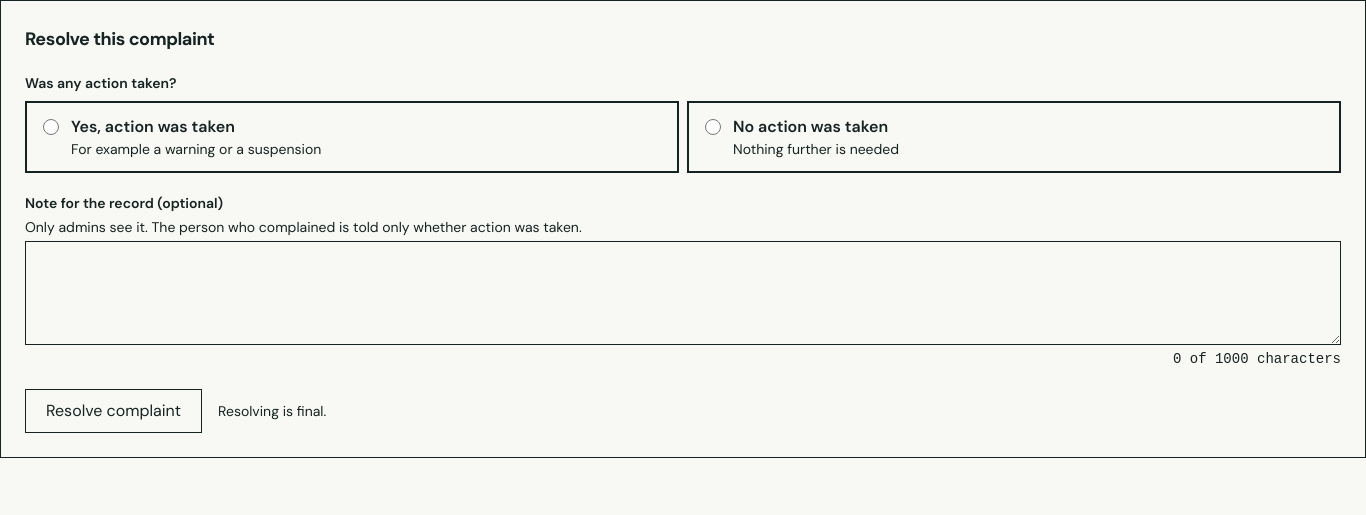
ComplaintStatusActions (OA-FR-18, CS455-53) › on a conflict says so and shows the complaint as it is now
The image size is (1366, 515).
Click the radio button labelled "Yes, action was taken For example a warning or a suspension": (51, 127) [43,119,59,135]
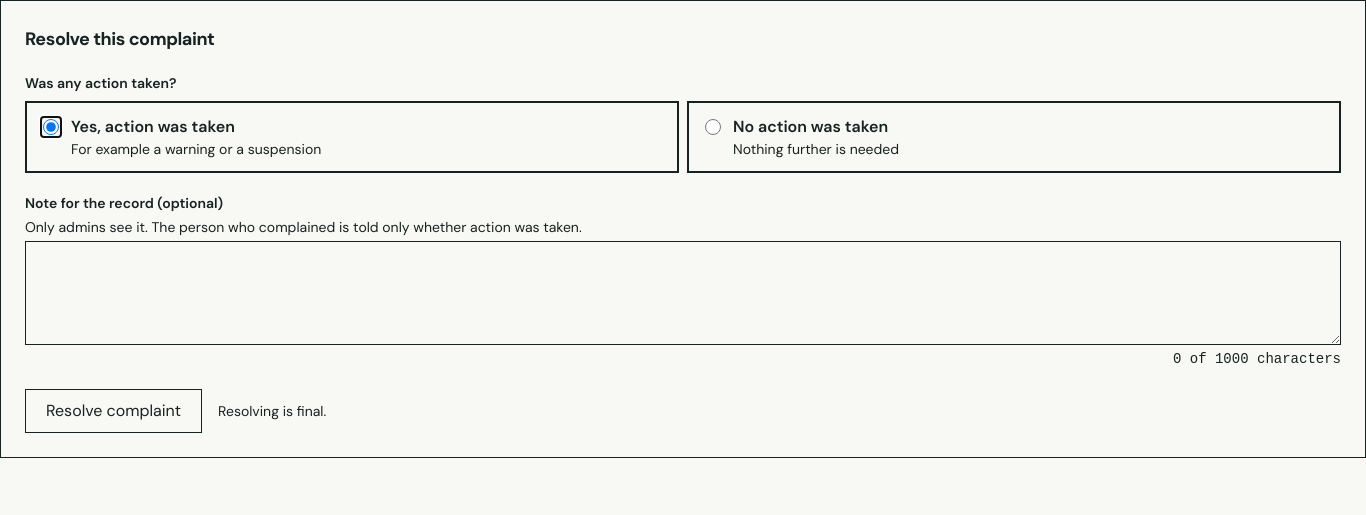
Click the button "Resolve complaint": (114, 411) [25,389,202,433]
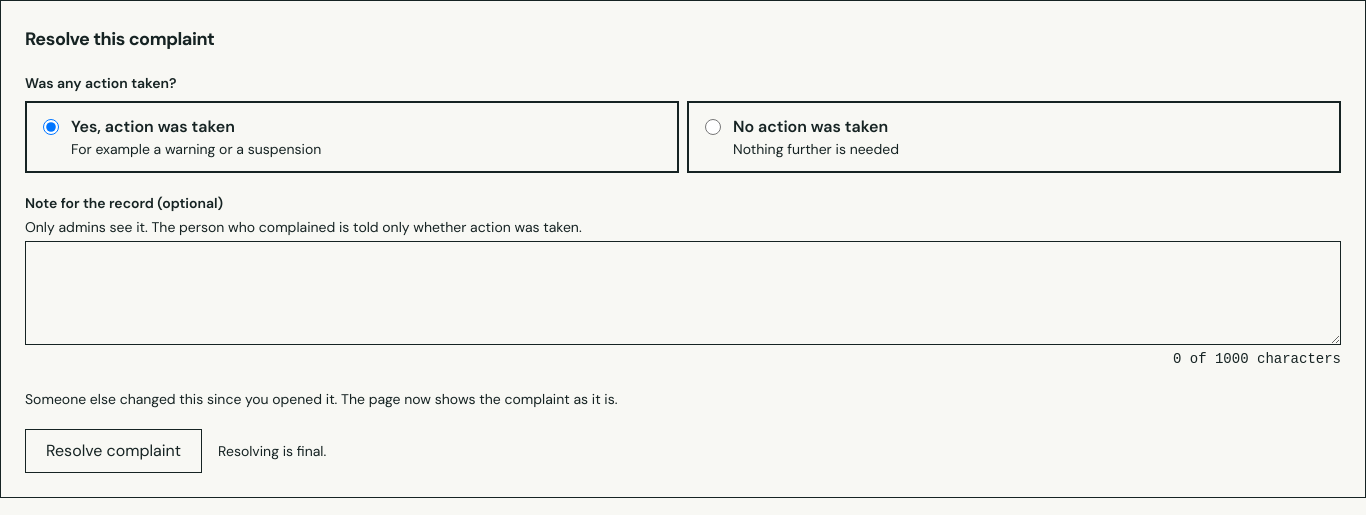
Check: the message shows "The page now shows the complaint as it is.", box [25,390,618,408]
